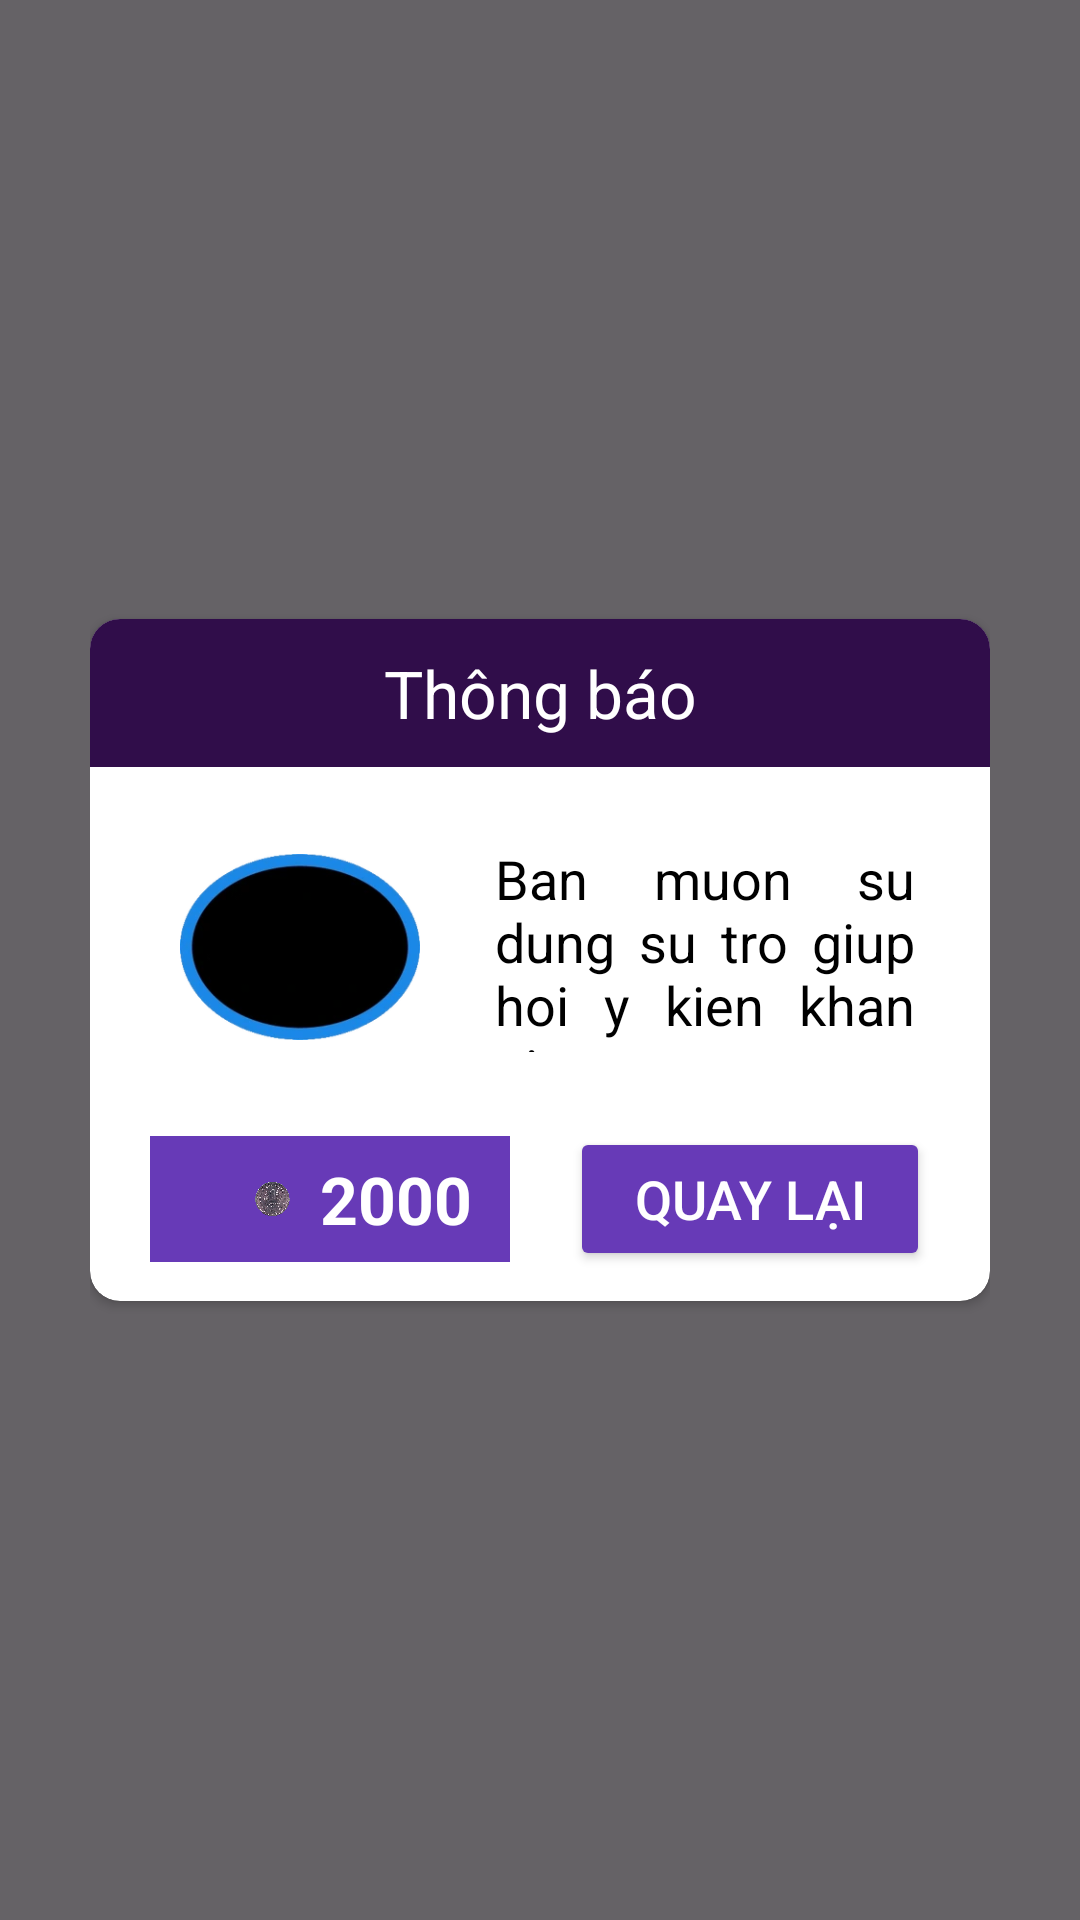

Point at icon controls on the screen. Image size 1080px x 1920px, points as (x,y).
money: (272,1199)
